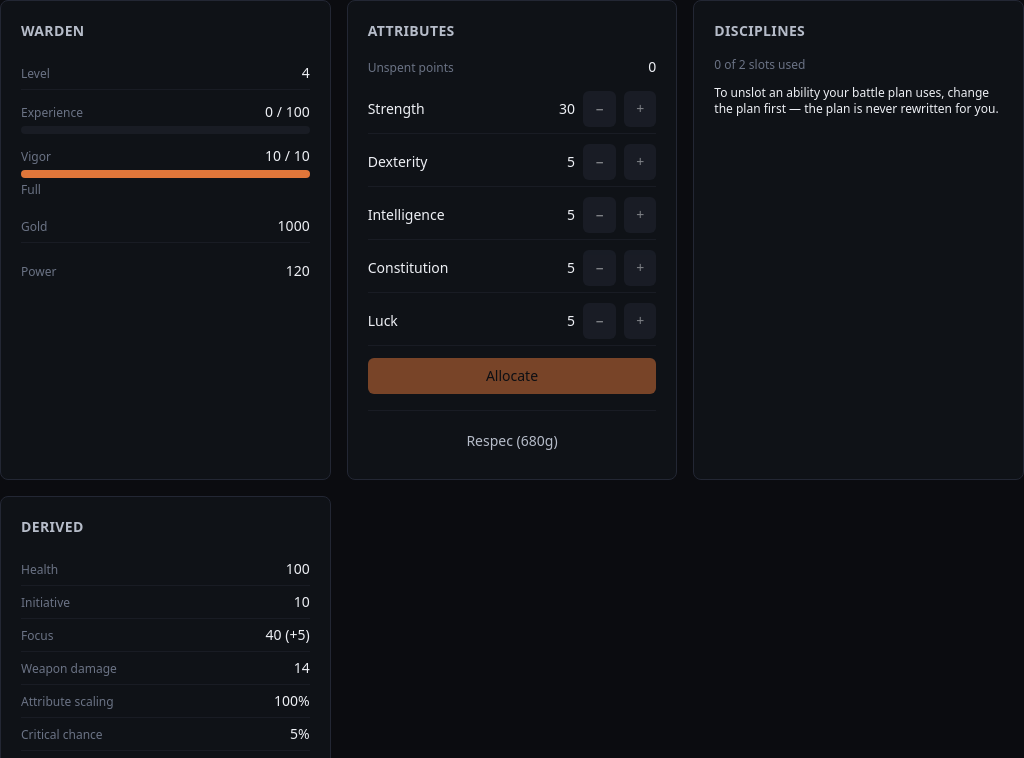
Test: respec › asks before spending anything
Click the button "Respec (680g)": (512,441) [368, 423, 656, 459]
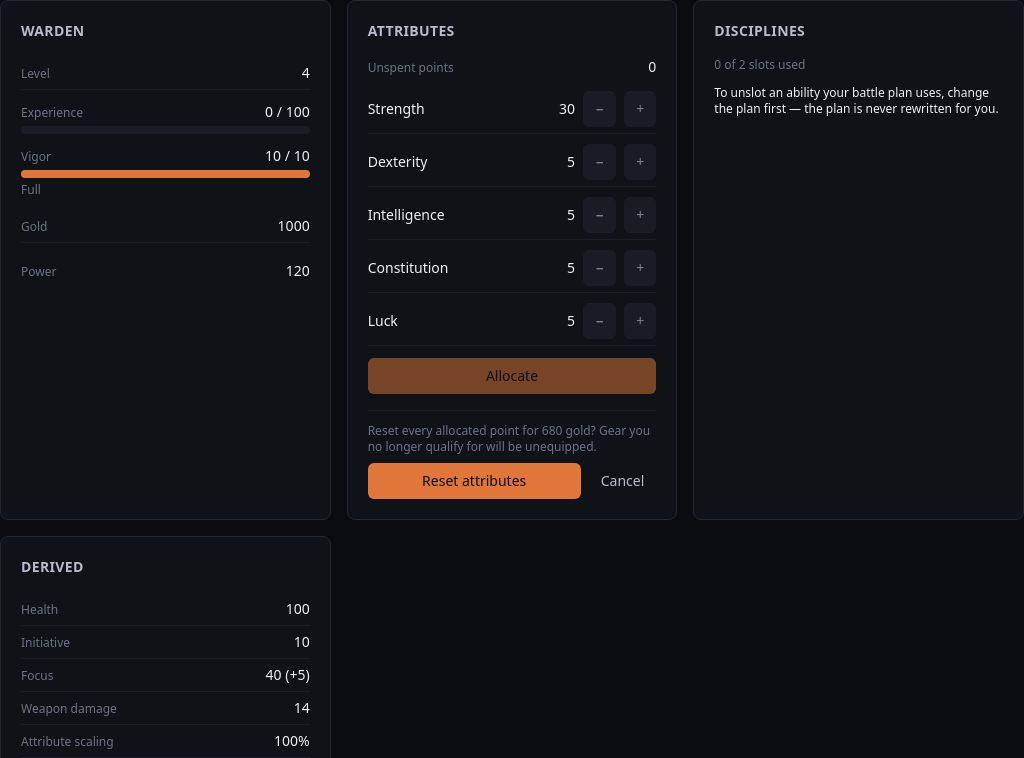
Result: the text "Reset every allocated point for 680 gold" is shown at [368, 422, 650, 455]
